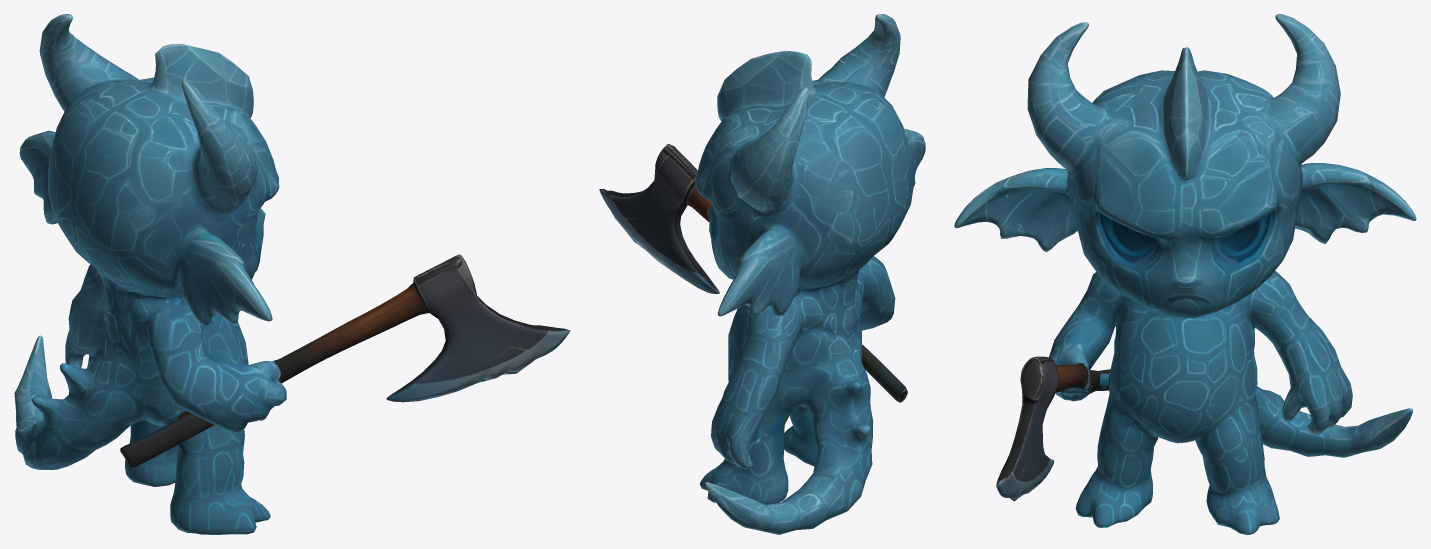
Rendered from Rejectus_low.fbx.
The picture shows the model from 3 angles, left to right: view 1: azimuth 30°, elevation 25°; view 2: azimuth 150°, elevation 25°; view 3: azimuth 270°, elevation 25°; orthographic projection. The views are drawn at different scales.
Visible parts, largest first — view 1: tripo_node_6fee5190; view 2: tripo_node_6fee5190; view 3: tripo_node_6fee5190.
Boxes of the visible parts, x1=… form: tripo_node_6fee5190: x1=14, y1=14, x2=570, y2=534; tripo_node_6fee5190: x1=599, y1=14, x2=925, y2=534; tripo_node_6fee5190: x1=954, y1=14, x2=1416, y2=534.
Bounding box in the file's own units: 92.59 × 99.92 × 90.62.
Materials: 1 (1 with a texture image).
